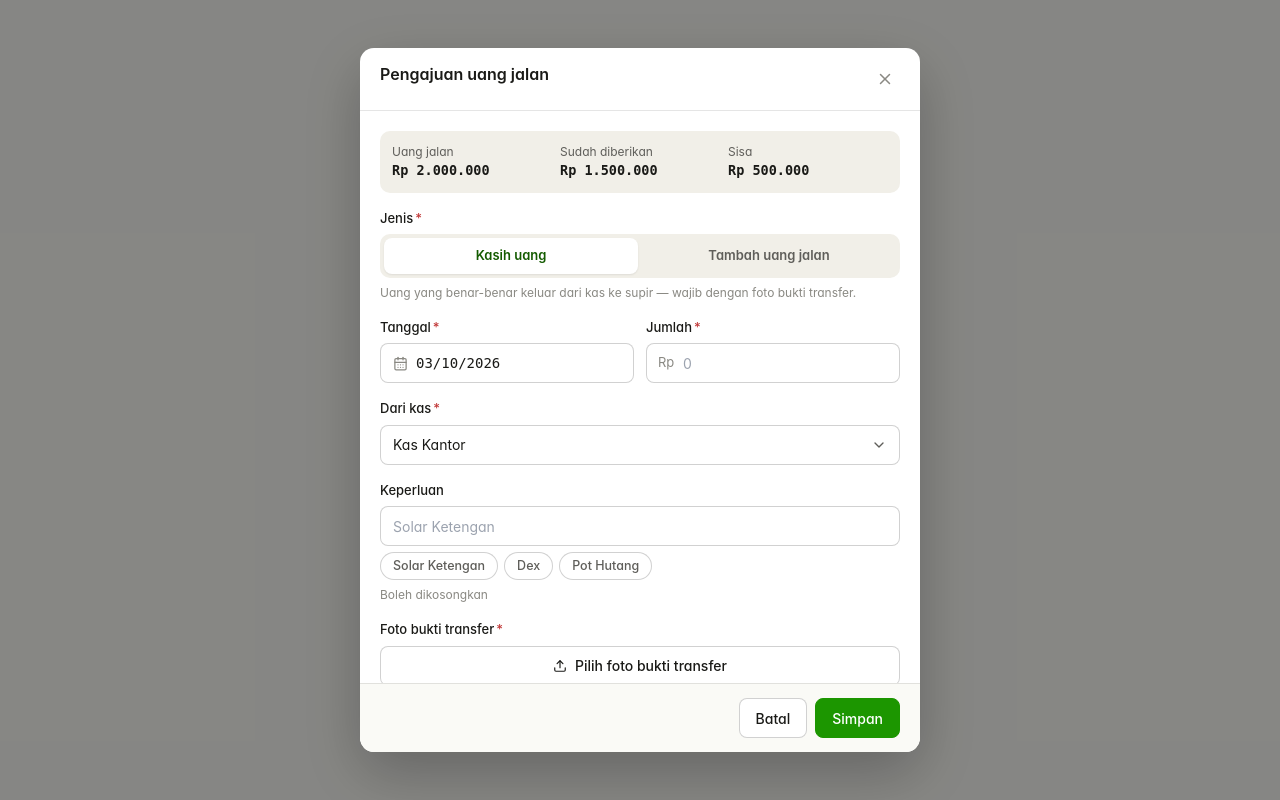
Test: UangJalanModal — tampilan › isian kosong → pesan di bawah isian, tidak dikirim
The width and height of the screenshot is (1280, 800).
Click the button "Simpan". click: (858, 718)
box: [815, 698, 900, 738]
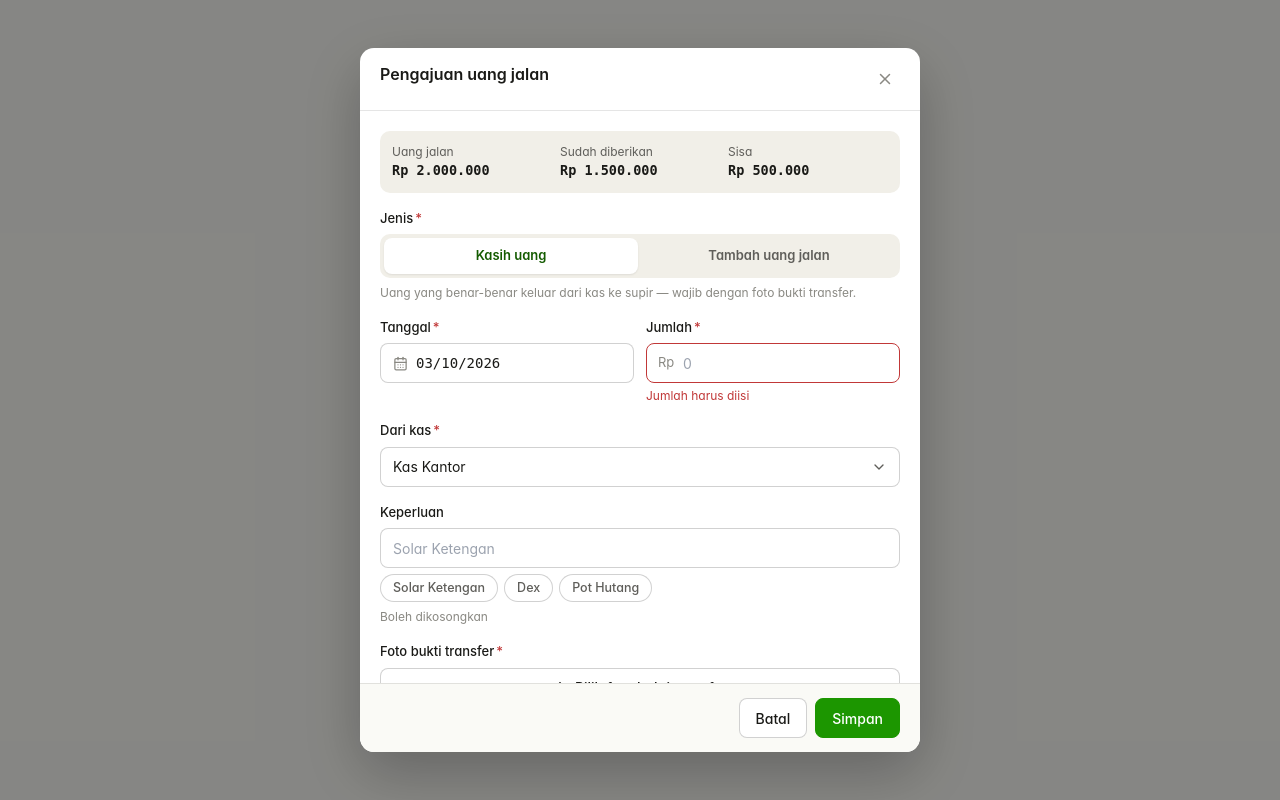
Result: the text "Jumlah harus diisi" is shown at [646, 388, 749, 403]
